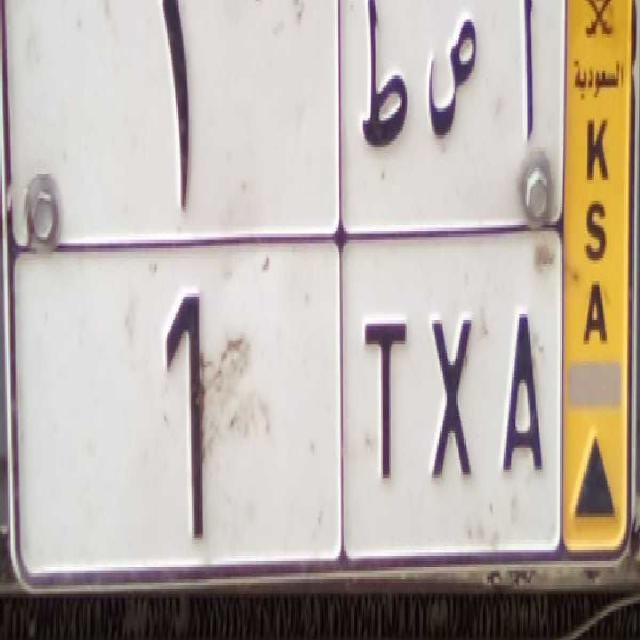license_plate: (10, 231, 561, 564)
